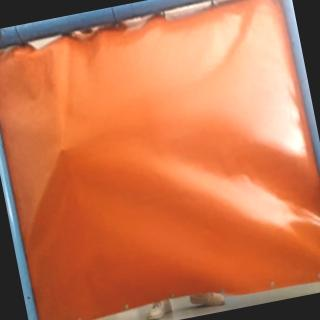Hit-hRxx: (50, 141, 71, 158)
